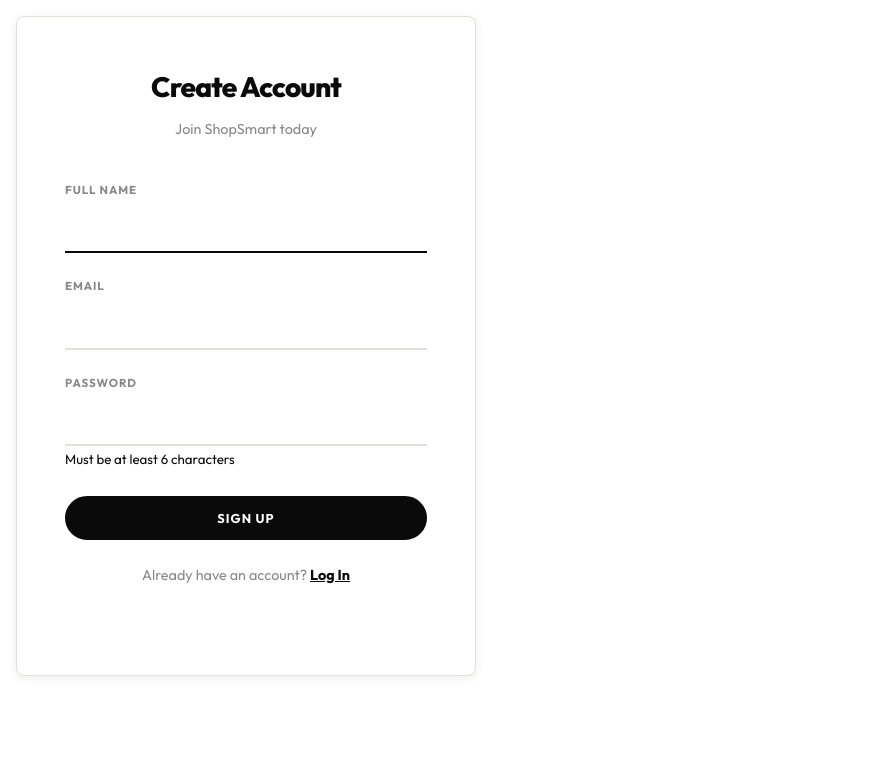
Test: RegisterPage Component › shows error if password is too short
Type "John Doe" into the field labelled "Full Name" at (246, 230), box [65, 207, 427, 253]
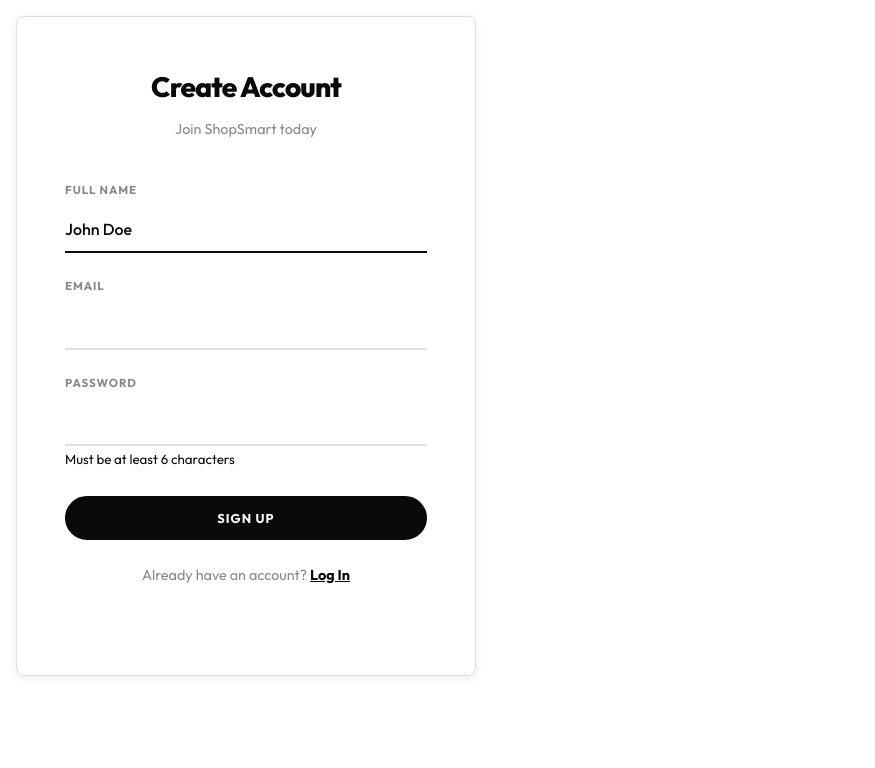
Type "john@example.com" into the field labelled "Email" at (246, 327), box [65, 304, 427, 350]
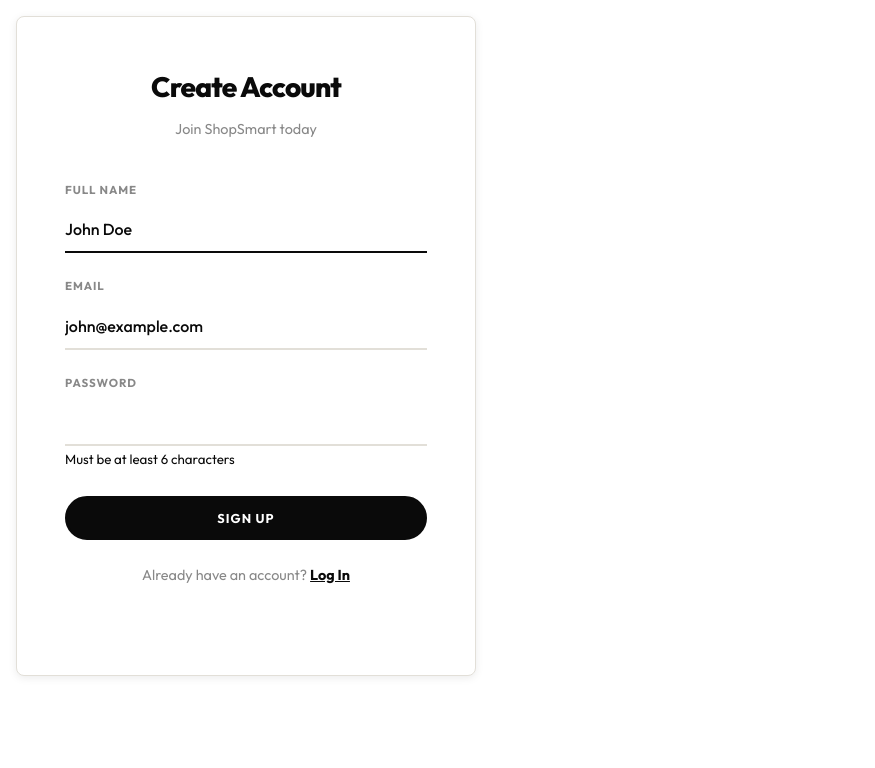
Type "123" into the password field labelled "Password" at (246, 423), box [65, 400, 427, 446]
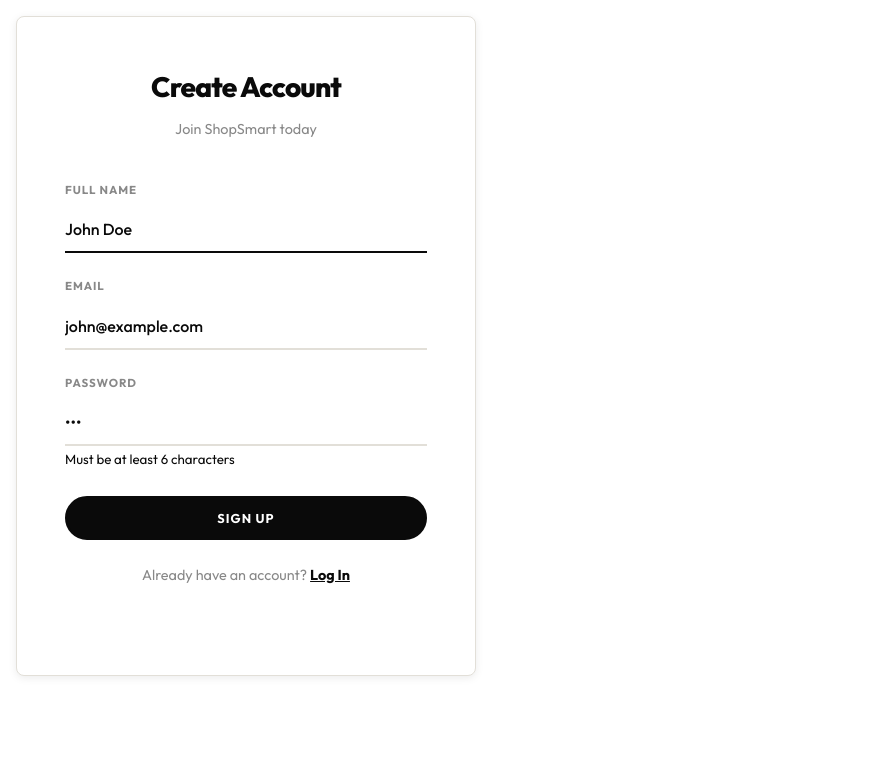
Click the button "Sign Up" at (246, 518), box [65, 496, 427, 540]
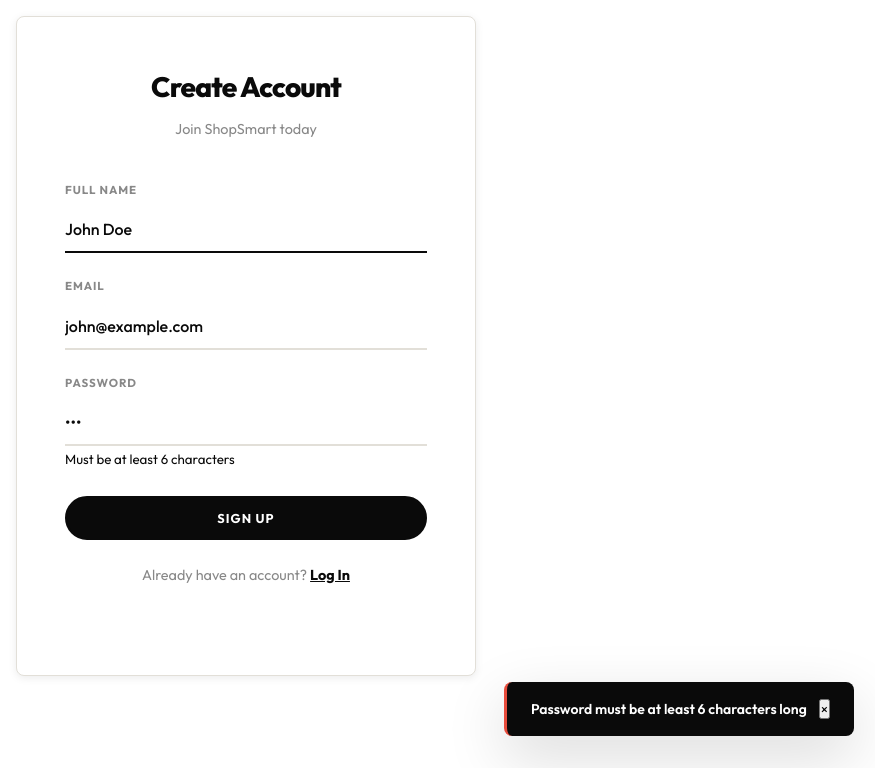
Check: the text "Password must be at least 6 characters long" is shown, box [531, 698, 807, 720]
